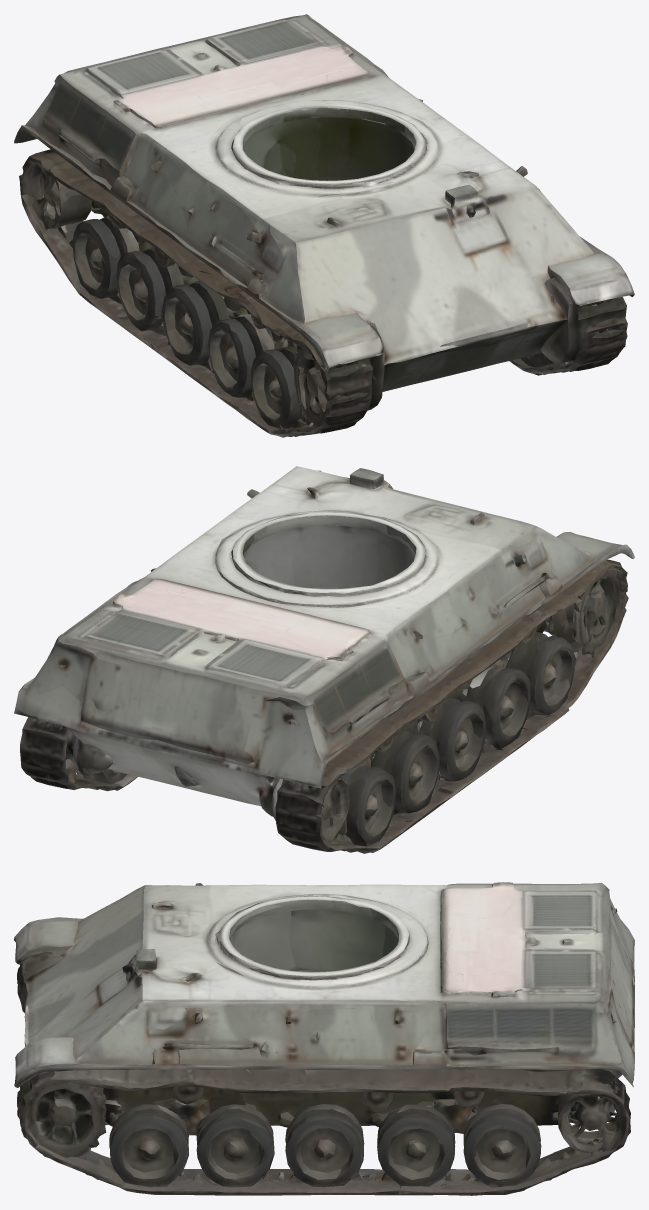
Rendered from light_hull_only.glb.
The picture shows the model from 3 angles, top to bottom: view 1: azimuth 30°, elevation 25°; view 2: azimuth 150°, elevation 25°; view 3: azimuth 270°, elevation 25°; orthographic projection.
Parts seen in each view (by area): view 1: geometry_0; view 2: geometry_0; view 3: geometry_0.
Boxes of the visible parts, <box> form: geometry_0: <box>14,14,634,437</box>; geometry_0: <box>14,466,634,853</box>; geometry_0: <box>14,882,634,1195</box>.
Size of the model in its own units: 6.5 by 3.98 by 11.51.
1 material, 1 textured.
